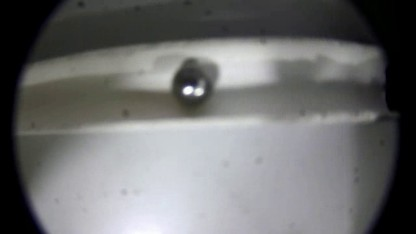gangzhu: (172, 63, 214, 112)
